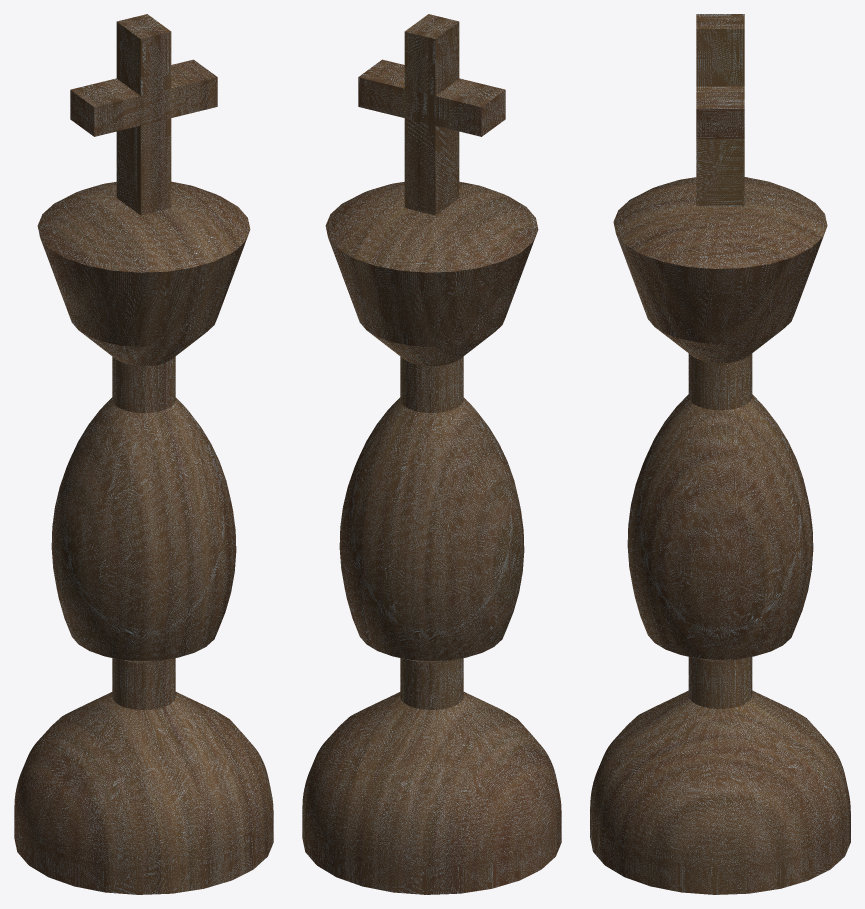
Rendered from King Black.fbx.
The picture shows the model from 3 angles, left to right: view 1: azimuth 30°, elevation 25°; view 2: azimuth 150°, elevation 25°; view 3: azimuth 270°, elevation 25°; orthographic projection.
Parts seen in each view (by area): view 1: King_Black1; view 2: King_Black1; view 3: King_Black1.
Boxes of the visible parts, x1,y1,x2,y2 form: King_Black1: (14,14,273,894); King_Black1: (302,14,561,894); King_Black1: (590,14,850,894).
Bounding box in the file's own units: 0.0475 × 0.1644 × 0.0475.
